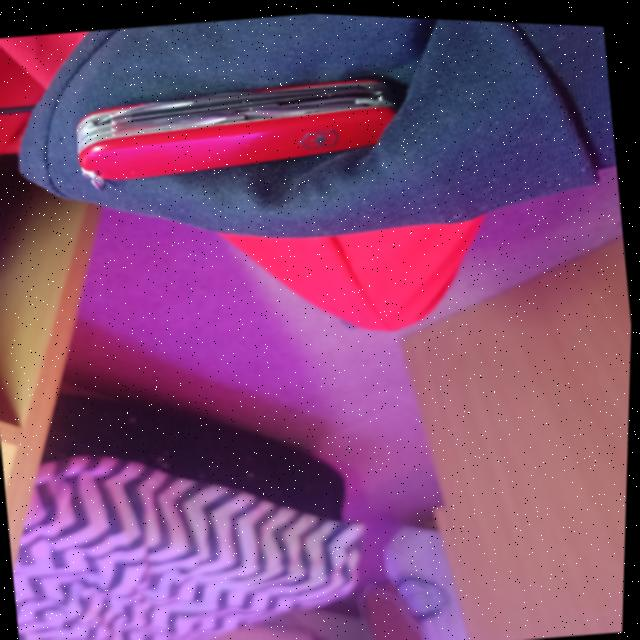knife victorinox: (65, 52, 414, 194)
